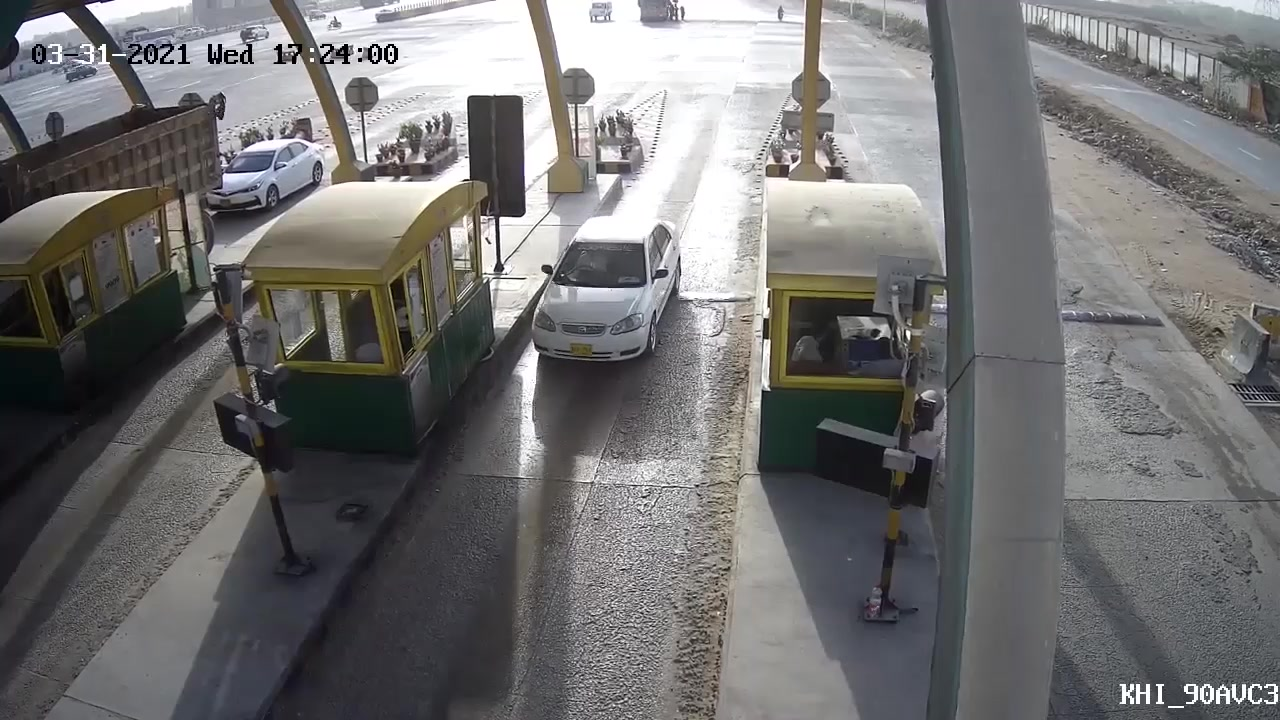F1: (517, 204, 696, 394)
